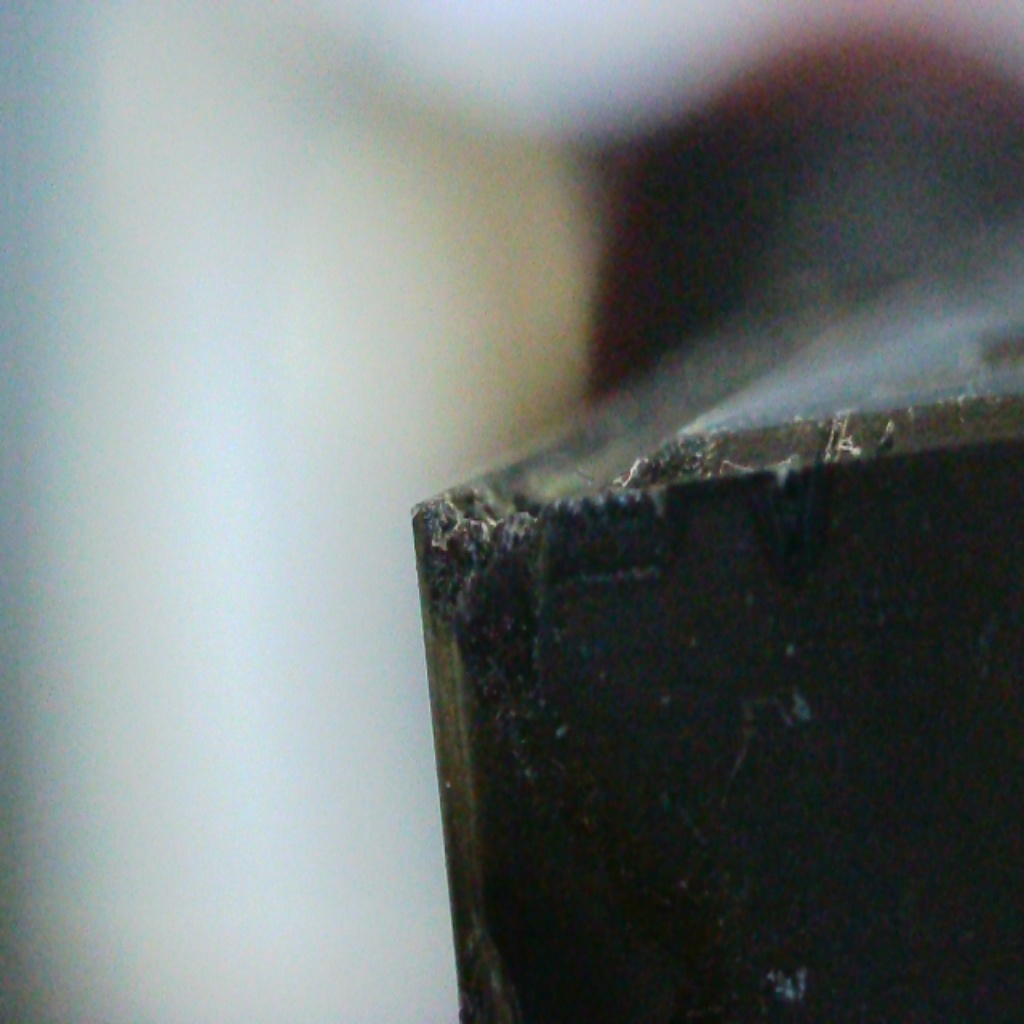flank_wear: (416, 492, 660, 721)
